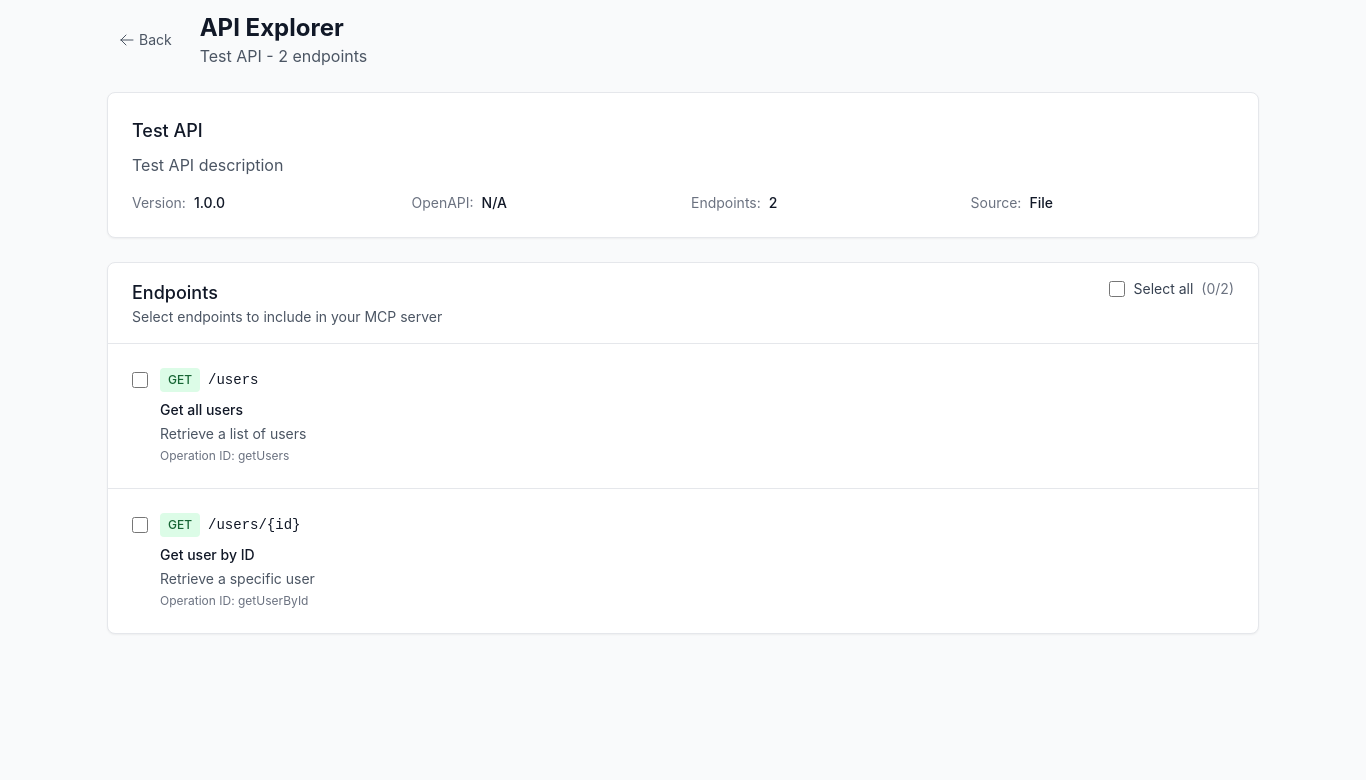
ApiExplorer › select all › goes indeterminate when only some are selected
Step 1. Click the checkbox named "Select GET /users" → point(140, 380), box [132,372,148,388]
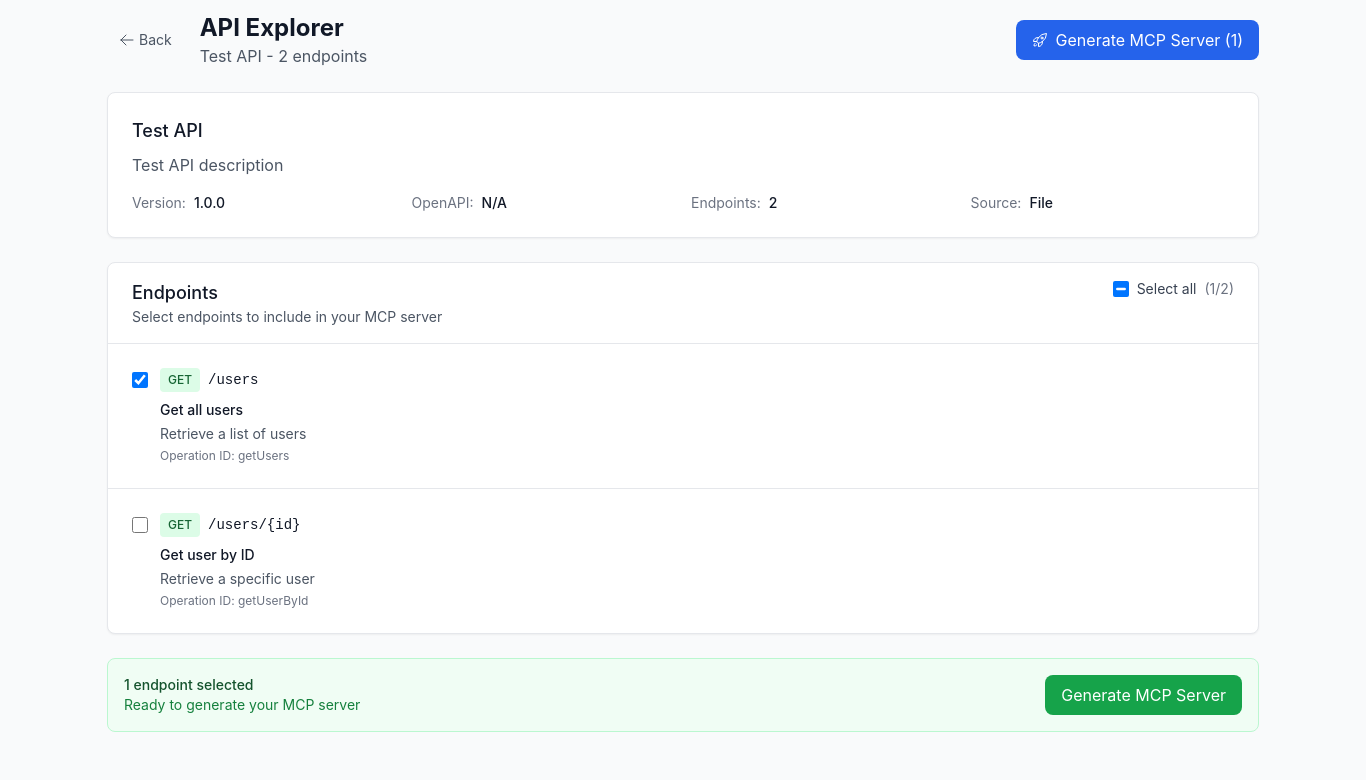
Check: the checkbox labelled "Select all (1/2)" is not checked, box [1113,281,1129,297]
Check: the text "(1/2)" is shown, box [1204,279,1234,299]
